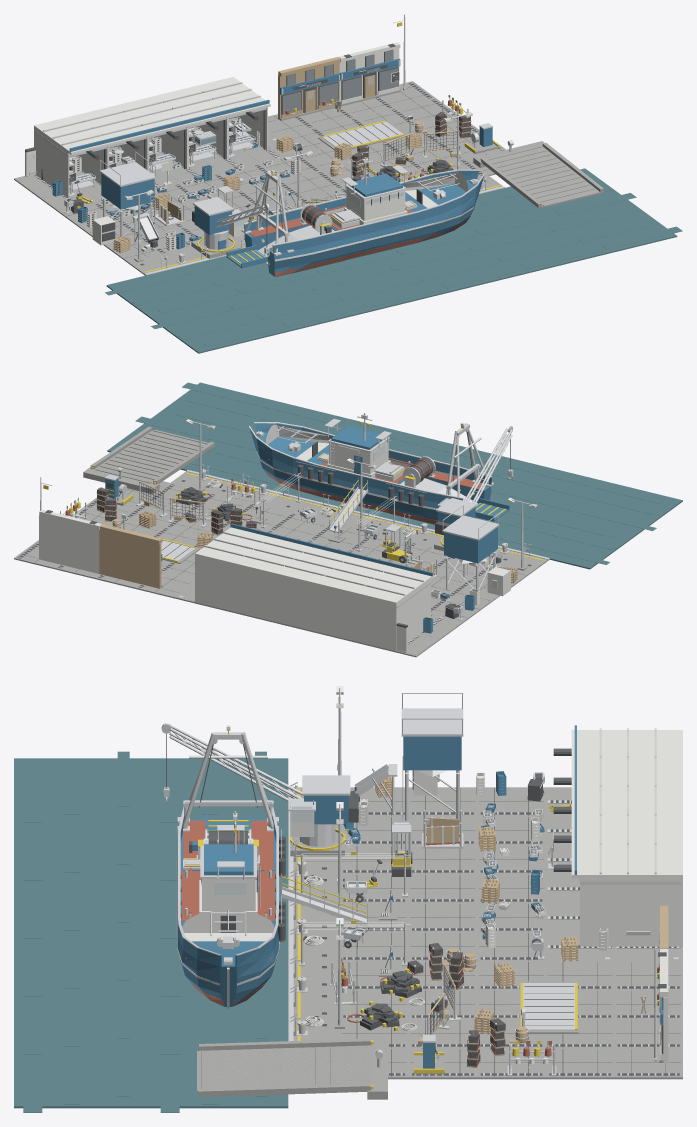
The model's file is fish-market-and-trawler-quay-fish-market-508675a8-starter-scene__37313.glb.
3 renders of one model, top to bottom at view 1: azimuth 30°, elevation 25°; view 2: azimuth 150°, elevation 25°; view 3: azimuth 270°, elevation 25°, orthographic. The views are drawn at different scales.
Visible parts, largest first — view 1: 145-fish-market-and-trawler-quay-slipway/0, 006-fish-market-and-trawler-quay-harbour-water-module/0, 011-fish-market-and-trawler-quay-harbour-water-module/0, 000-fish-market-and-trawler-quay-harbour-water-module/0, 008-fish-market-and-trawler-quay-harbour-water-module/0, 007-fish-market-and-trawler-quay-harbour-water-module/0, 009-fish-market-and-trawler-quay-harbour-water-module/0, 010-fish-market-and-trawler-quay-harbour-water-module/0, 071-fish-market-and-trawler-quay-market-hall-bay-open/0, 078-fish-market-and-trawler-quay-trawler-stern-section/0, 004-fish-market-and-trawler-quay-harbour-water-module/0, 080-fish-market-and-trawler-quay-trawler-bow-section/0 (+44 smaller); view 2: 071-fish-market-and-trawler-quay-market-hall-bay-open/0, 145-fish-market-and-trawler-quay-slipway/0, 000-fish-market-and-trawler-quay-harbour-water-module/0, 006-fish-market-and-trawler-quay-harbour-water-module/0, 011-fish-market-and-trawler-quay-harbour-water-module/0, 007-fish-market-and-trawler-quay-harbour-water-module/0, 075-fish-market-and-trawler-quay-market-hall-bay-open/0, 073-fish-market-and-trawler-quay-market-hall-bay-open/0, 072-fish-market-and-trawler-quay-market-hall-bay-open/0, 074-fish-market-and-trawler-quay-market-hall-bay-open/0, 076-fish-market-and-trawler-quay-chandlery-front/0, 077-fish-market-and-trawler-quay-harbour-office-front/0 (+46 smaller); view 3: 145-fish-market-and-trawler-quay-slipway/0, 075-fish-market-and-trawler-quay-market-hall-bay-open/0, 011-fish-market-and-trawler-quay-harbour-water-module/0, 006-fish-market-and-trawler-quay-harbour-water-module/0, 007-fish-market-and-trawler-quay-harbour-water-module/0, 008-fish-market-and-trawler-quay-harbour-water-module/0, 009-fish-market-and-trawler-quay-harbour-water-module/0, 010-fish-market-and-trawler-quay-harbour-water-module/0, 004-fish-market-and-trawler-quay-harbour-water-module/0, 000-fish-market-and-trawler-quay-harbour-water-module/0, 080-fish-market-and-trawler-quay-trawler-bow-section/0, 005-fish-market-and-trawler-quay-harbour-water-module/0 (+80 smaller).
Boxes of the visible parts, x1=… form: 145-fish-market-and-trawler-quay-slipway/0: x1=473, y1=141, x2=603, y2=208; 006-fish-market-and-trawler-quay-harbour-water-module/0: x1=151, y1=299, x2=283, y2=353; 011-fish-market-and-trawler-quay-harbour-water-module/0: x1=550, y1=202, x2=682, y2=256; 000-fish-market-and-trawler-quay-harbour-water-module/0: x1=105, y1=265, x2=237, y2=319; 008-fish-market-and-trawler-quay-harbour-water-module/0: x1=310, y1=260, x2=443, y2=314; 007-fish-market-and-trawler-quay-harbour-water-module/0: x1=231, y1=280, x2=363, y2=334; 009-fish-market-and-trawler-quay-harbour-water-module/0: x1=390, y1=241, x2=522, y2=295; 010-fish-market-and-trawler-quay-harbour-water-module/0: x1=470, y1=221, x2=602, y2=275; 071-fish-market-and-trawler-quay-market-hall-bay-open/0: x1=34, y1=115, x2=111, y2=198; 078-fish-market-and-trawler-quay-trawler-stern-section/0: x1=244, y1=209, x2=348, y2=276; 004-fish-market-and-trawler-quay-harbour-water-module/0: x1=456, y1=188, x2=556, y2=240; 080-fish-market-and-trawler-quay-trawler-bow-section/0: x1=401, y1=171, x2=483, y2=243; 071-fish-market-and-trawler-quay-market-hall-bay-open/0: x1=356, y1=566, x2=433, y2=651; 145-fish-market-and-trawler-quay-slipway/0: x1=83, y1=426, x2=214, y2=494; 000-fish-market-and-trawler-quay-harbour-water-module/0: x1=510, y1=514, x2=636, y2=569; 006-fish-market-and-trawler-quay-harbour-water-module/0: x1=556, y1=480, x2=682, y2=534; 011-fish-market-and-trawler-quay-harbour-water-module/0: x1=154, y1=382, x2=280, y2=435; 007-fish-market-and-trawler-quay-harbour-water-module/0: x1=490, y1=461, x2=601, y2=514; 075-fish-market-and-trawler-quay-market-hall-bay-open/0: x1=195, y1=527, x2=270, y2=611; 073-fish-market-and-trawler-quay-market-hall-bay-open/0: x1=275, y1=547, x2=351, y2=631; 072-fish-market-and-trawler-quay-market-hall-bay-open/0: x1=315, y1=557, x2=391, y2=641; 074-fish-market-and-trawler-quay-market-hall-bay-open/0: x1=235, y1=537, x2=310, y2=621; 076-fish-market-and-trawler-quay-chandlery-front/0: x1=99, y1=524, x2=162, y2=588; 077-fish-market-and-trawler-quay-harbour-office-front/0: x1=39, y1=477, x2=101, y2=573; 145-fish-market-and-trawler-quay-slipway/0: x1=197, y1=1038, x2=387, y2=1099; 075-fish-market-and-trawler-quay-market-hall-bay-open/0: x1=571, y1=846, x2=682, y2=946; 011-fish-market-and-trawler-quay-harbour-water-module/0: x1=14, y1=1041, x2=151, y2=1112; 006-fish-market-and-trawler-quay-harbour-water-module/0: x1=14, y1=751, x2=151, y2=822; 007-fish-market-and-trawler-quay-harbour-water-module/0: x1=14, y1=809, x2=151, y2=880; 008-fish-market-and-trawler-quay-harbour-water-module/0: x1=14, y1=867, x2=151, y2=938; 009-fish-market-and-trawler-quay-harbour-water-module/0: x1=14, y1=925, x2=151, y2=996; 010-fish-market-and-trawler-quay-harbour-water-module/0: x1=14, y1=983, x2=151, y2=1054; 004-fish-market-and-trawler-quay-harbour-water-module/0: x1=151, y1=983, x2=288, y2=1054; 000-fish-market-and-trawler-quay-harbour-water-module/0: x1=151, y1=751, x2=288, y2=822; 080-fish-market-and-trawler-quay-trawler-bow-section/0: x1=177, y1=922, x2=279, y2=1006; 005-fish-market-and-trawler-quay-harbour-water-module/0: x1=151, y1=1041, x2=288, y2=1112.
Bounding box in the file's own units: 49.8 × 9.05 × 39.
12 materials, 1 textured.
